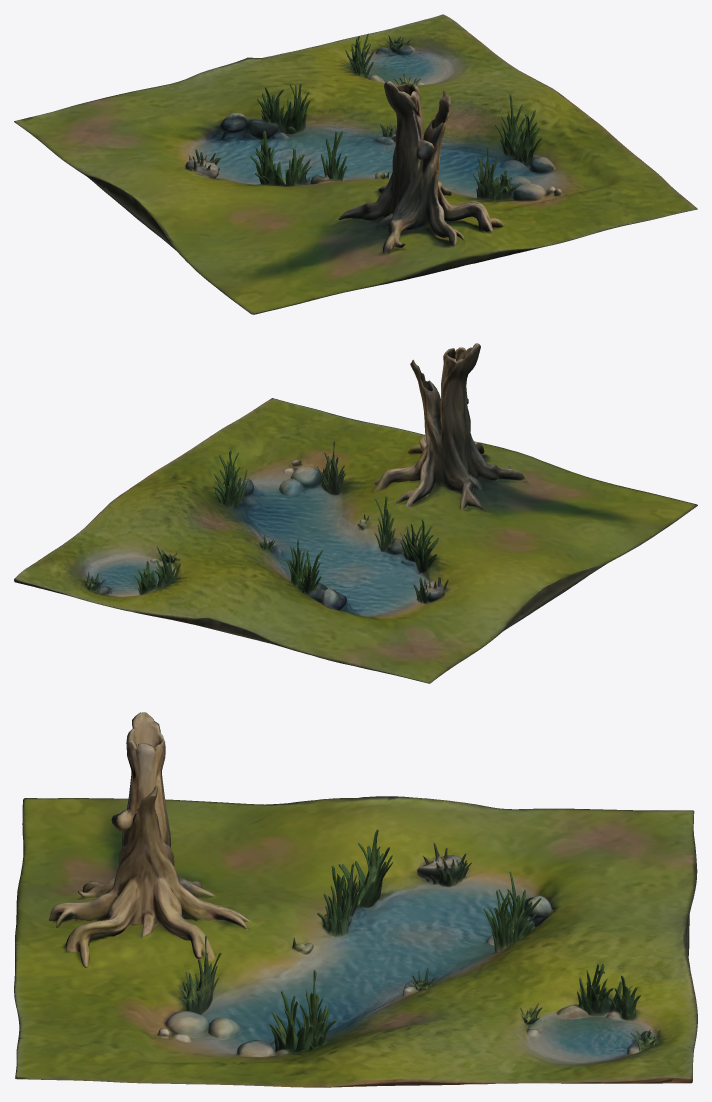
The model's file is terrain3.glb.
3 views of the same model, one above another, from view 1: azimuth 30°, elevation 25°; view 2: azimuth 150°, elevation 25°; view 3: azimuth 270°, elevation 25° (orthographic). The views are drawn at different scales.
Parts seen in each view (by area): view 1: tripo_node_d4001068-1afc-4107-854f-8ae2400797a0; view 2: tripo_node_d4001068-1afc-4107-854f-8ae2400797a0; view 3: tripo_node_d4001068-1afc-4107-854f-8ae2400797a0.
Boxes of the visible parts, x1,y1,x2,y2 form: tripo_node_d4001068-1afc-4107-854f-8ae2400797a0: [14, 14, 697, 314]; tripo_node_d4001068-1afc-4107-854f-8ae2400797a0: [14, 343, 697, 683]; tripo_node_d4001068-1afc-4107-854f-8ae2400797a0: [14, 712, 697, 1087].
Bounding box in the file's own units: 97.95 × 34.78 × 97.81.
Materials: 1 (1 with a texture image).
